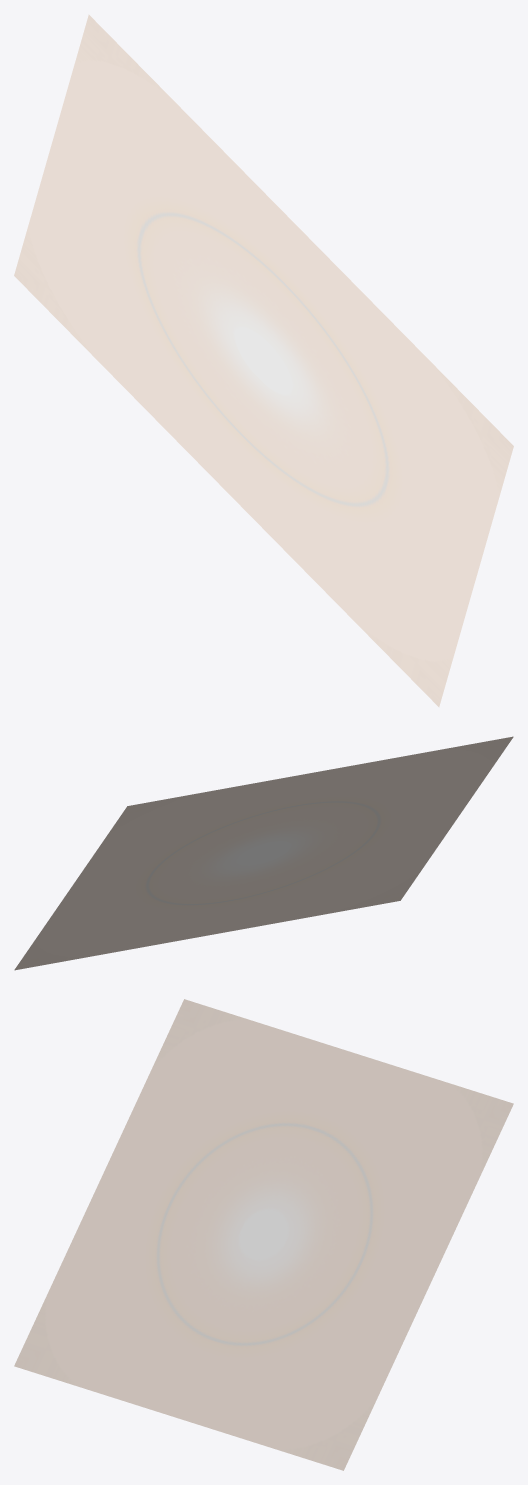
Rendered from sb_obj_sky_BlueSky.fbx.
3 views of the same model, one above another, from view 1: azimuth 30°, elevation 25°; view 2: azimuth 150°, elevation 25°; view 3: azimuth 270°, elevation 25° (orthographic). The views are drawn at different scales.
Parts seen in each view (by area): view 1: sun; view 2: sun; view 3: sun.
Part boxes in pixels (x1,y1,x2,y2): sun: (14,14,513,707); sun: (14,736,513,970); sun: (14,999,513,1470).
Size of what is drawn, in the model's own units: 86.26 by 54.47 by 90.93.
